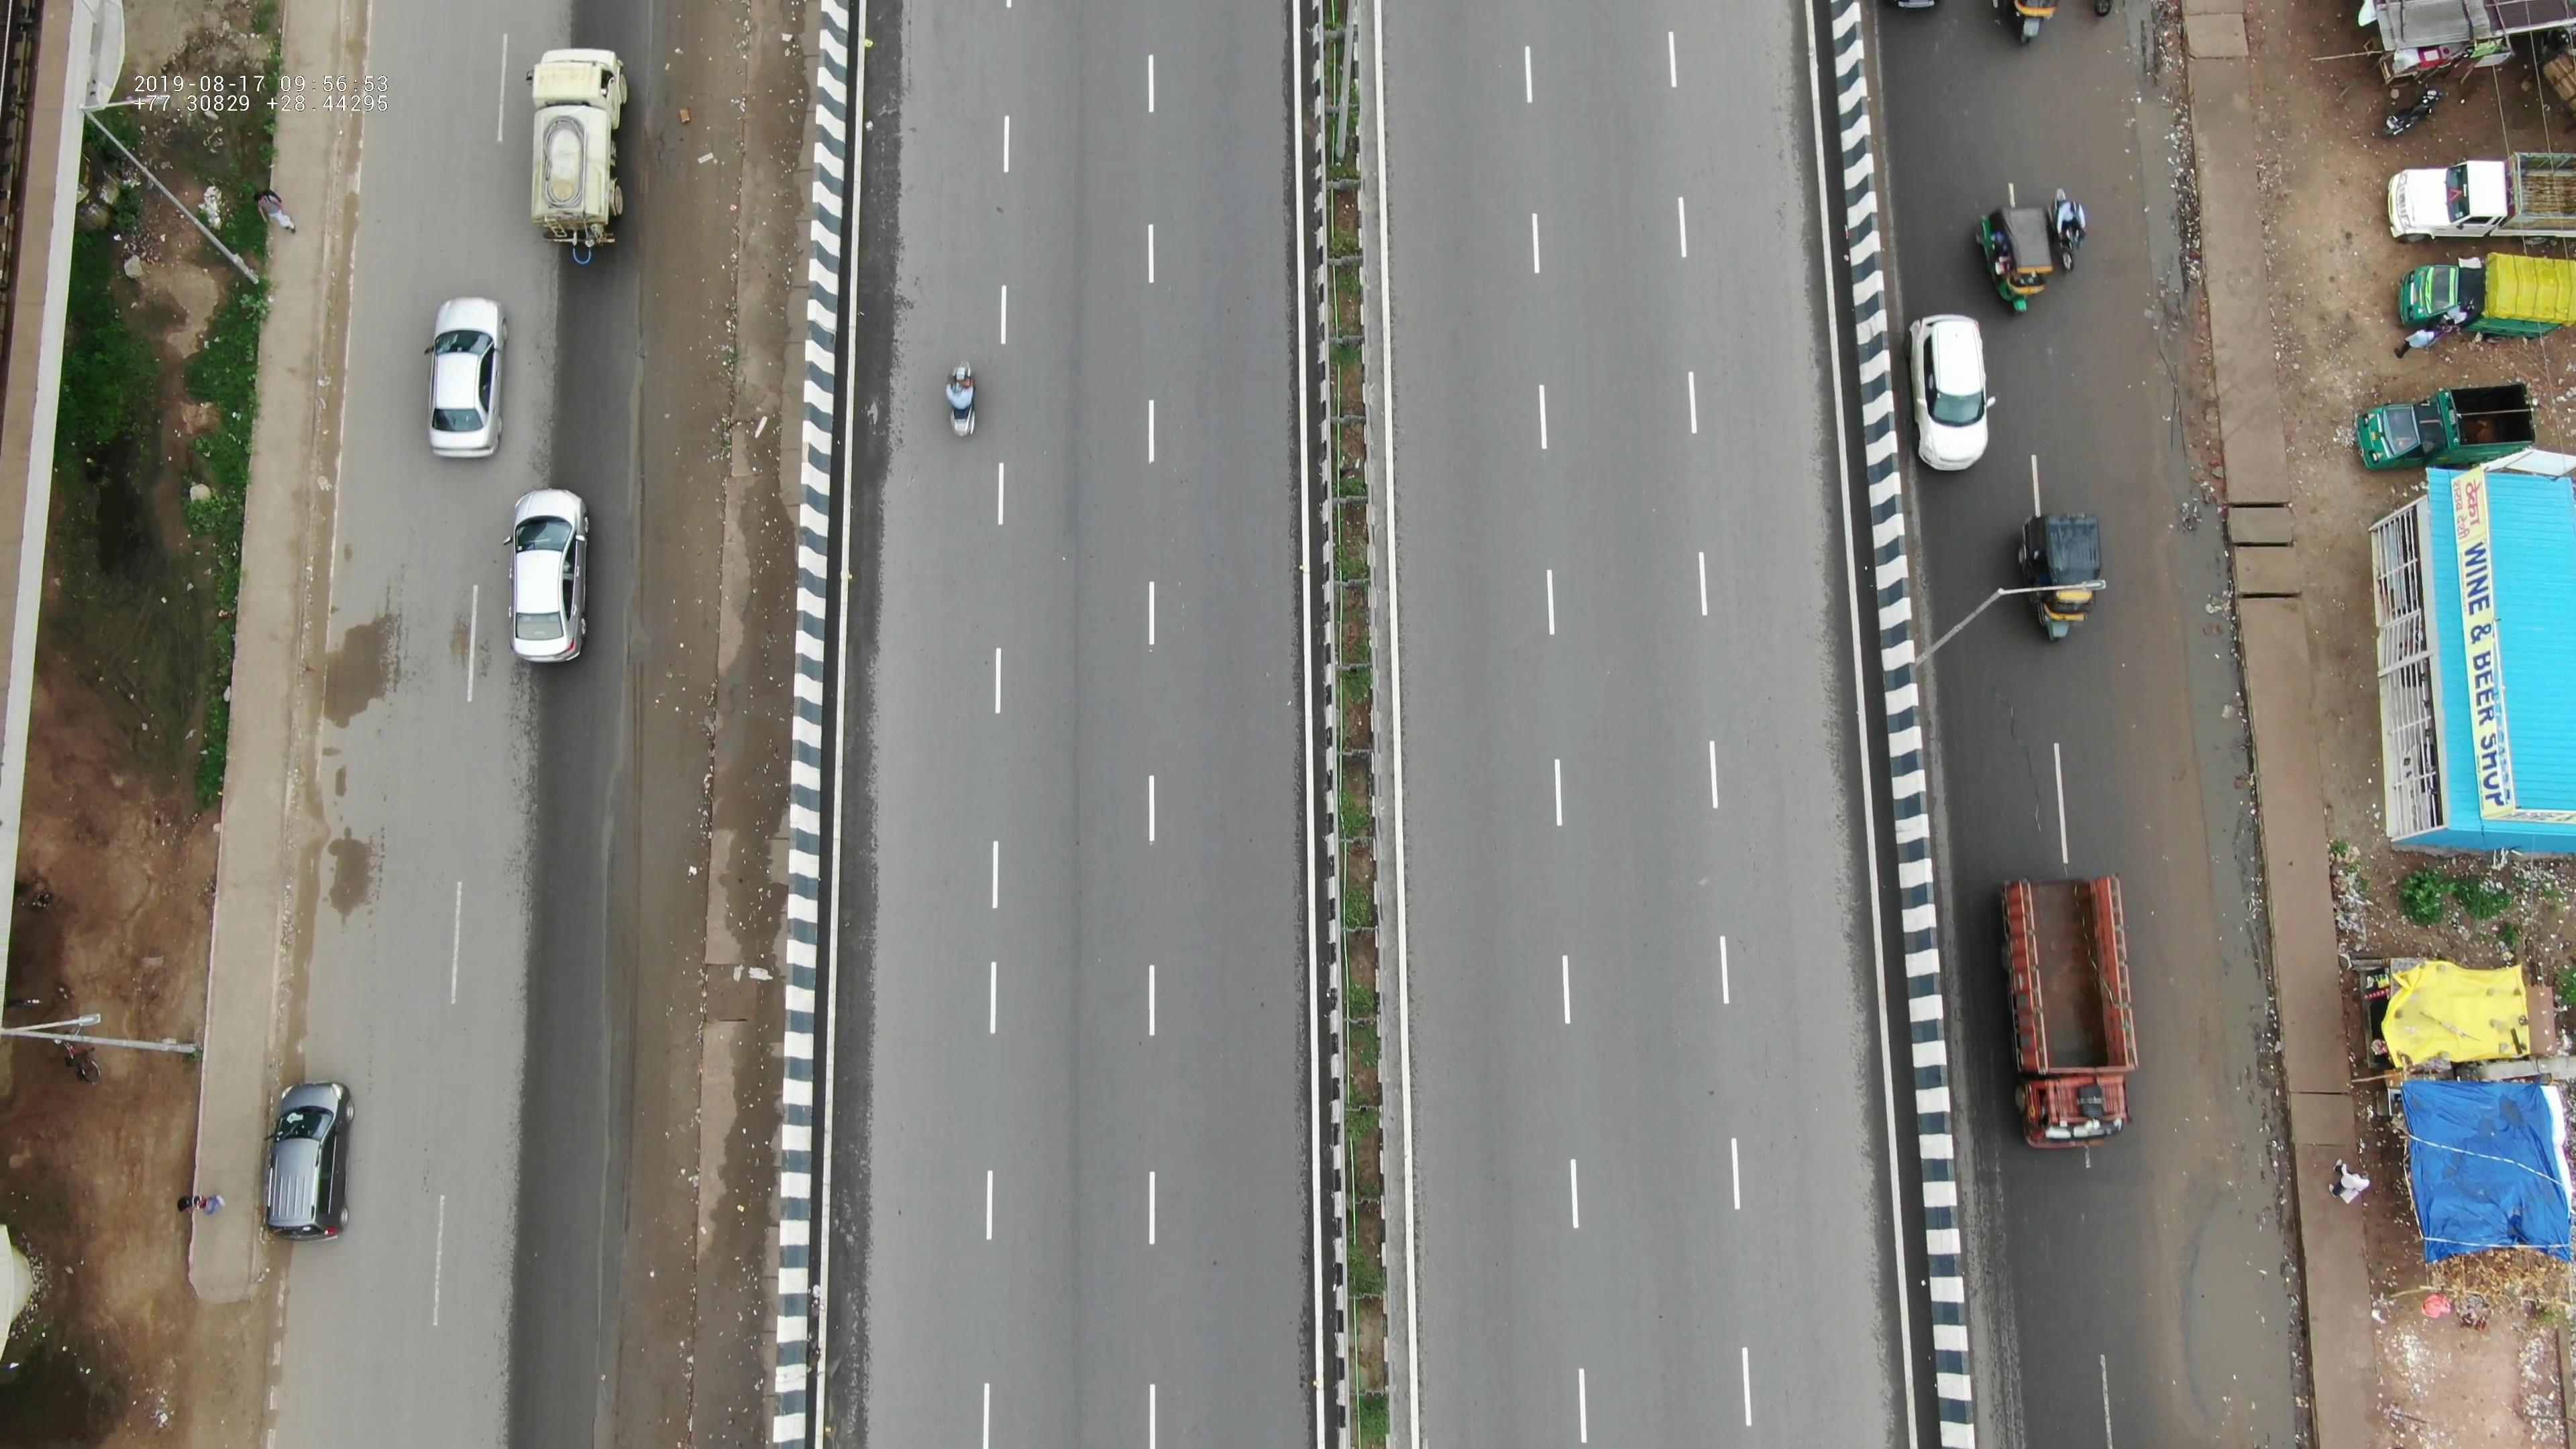Muddy_road: (308, 809, 386, 913), (327, 619, 403, 718)
Waterlogging: (2166, 524, 2282, 1070), (2167, 1189, 2305, 1447), (2111, 0, 2217, 288)
